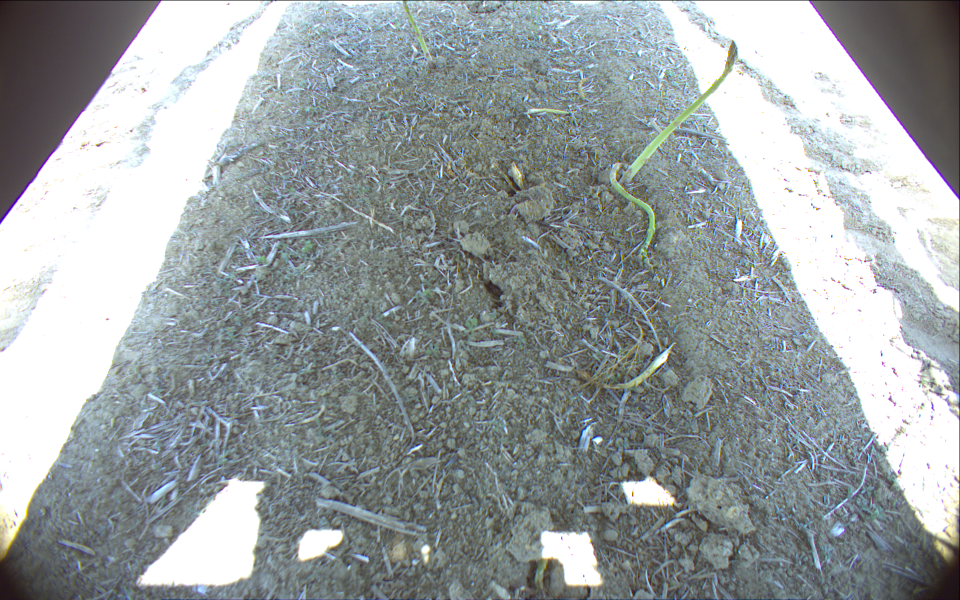aspa: (621, 39, 738, 181), (607, 163, 658, 259), (572, 349, 671, 389), (401, 1, 434, 64), (522, 107, 571, 117), (577, 76, 588, 101)
